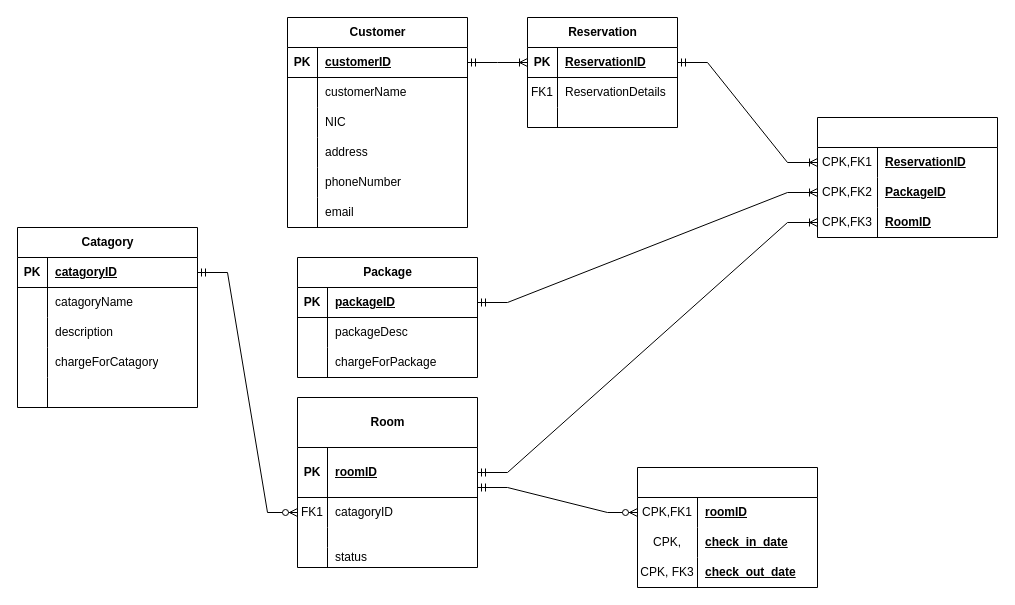
Some shapes in this 1015 by 605 pixel diagram are drawn without their labels. The box of each missing label's shape, as (x1, y1, x2, y2) in pixels:
check_in/check_out dates: (636, 466, 818, 588)
ReservationDetail: (816, 116, 998, 238)
